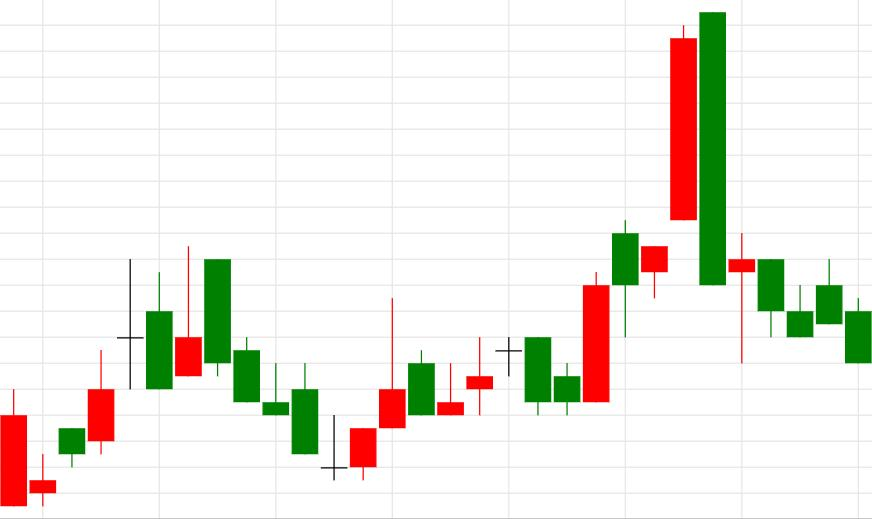bearish_engulfing_fall: (554, 13, 725, 416)
